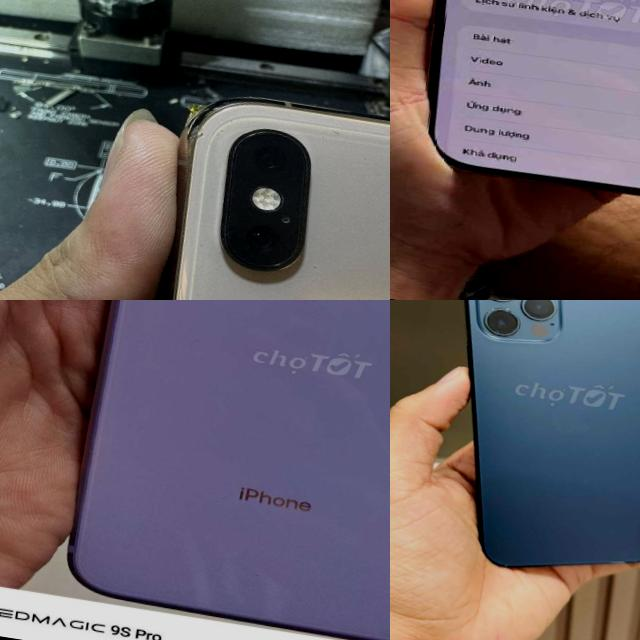gen_12_13: (423, 300, 640, 594)
gen_16: (390, 0, 640, 221)
gen_7_8: (40, 300, 390, 640)
gen_x_xs: (120, 83, 390, 300)
